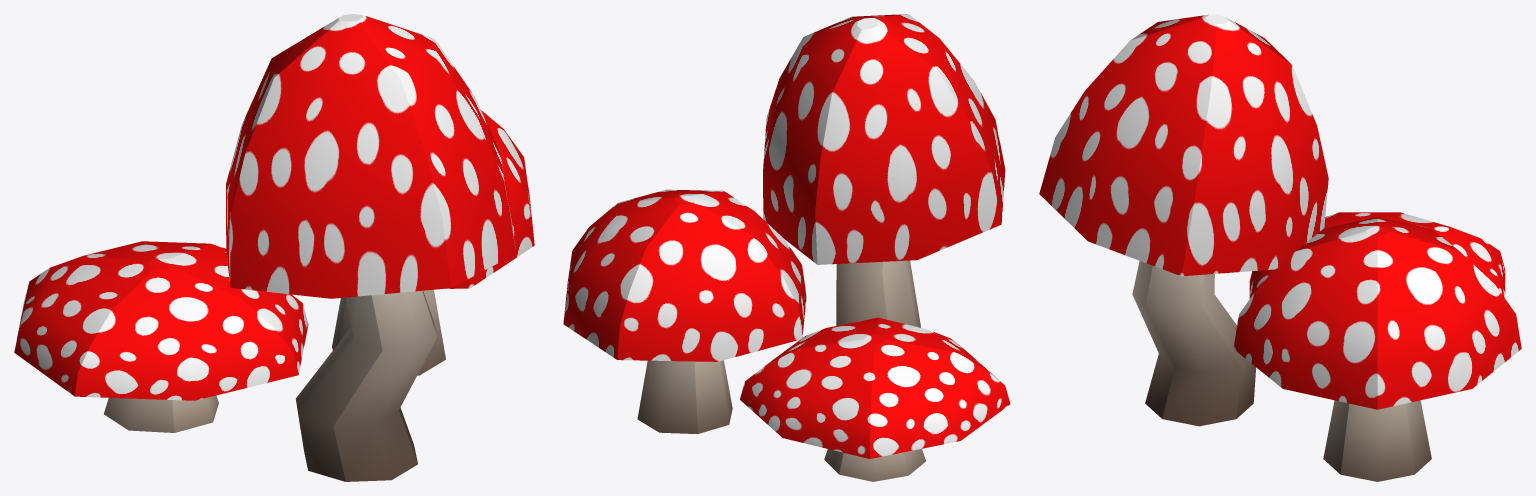
Rendered from mushrooms.fbx.
3 renders of one model, left to right at view 1: azimuth 30°, elevation 25°; view 2: azimuth 150°, elevation 25°; view 3: azimuth 270°, elevation 25°, orthographic. The views are drawn at different scales.
Parts seen in each view (by area): view 1: mushRoom2, mushRoom3, mushRoom1; view 2: mushRoom2, mushRoom1, mushRoom3; view 3: mushRoom2, mushRoom1, mushRoom3.
Boxes of the visible parts, x1=… form: mushRoom2: x1=226, y1=14, x2=515, y2=481; mushRoom3: x1=14, y1=241, x2=308, y2=432; mushRoom1: x1=332, y1=110, x2=534, y2=375; mushRoom2: x1=763, y1=14, x2=1005, y2=327; mushRoom1: x1=563, y1=189, x2=806, y2=434; mushRoom3: x1=740, y1=317, x2=1010, y2=481; mushRoom2: x1=1039, y1=14, x2=1328, y2=426; mushRoom1: x1=1233, y1=217, x2=1521, y2=481; mushRoom3: x1=1249, y1=212, x2=1505, y2=298.
Size of the model in its own units: 11.41 by 9.61 by 10.88.
Materials: 1 (1 with a texture image).
